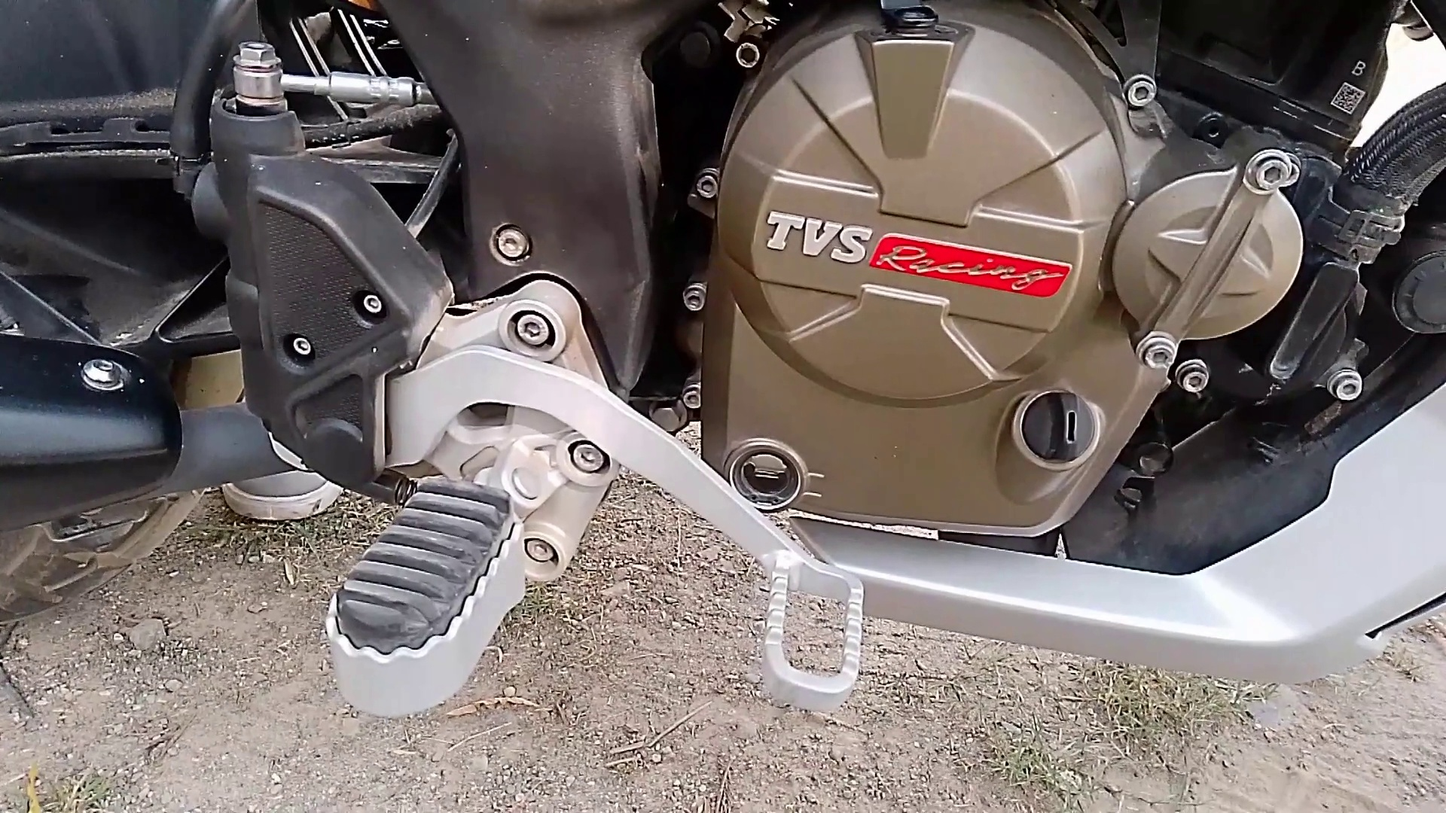engine: (683, 8, 1322, 555)
oil_cap: (1005, 369, 1111, 480)
oil_marker: (717, 420, 845, 523)
